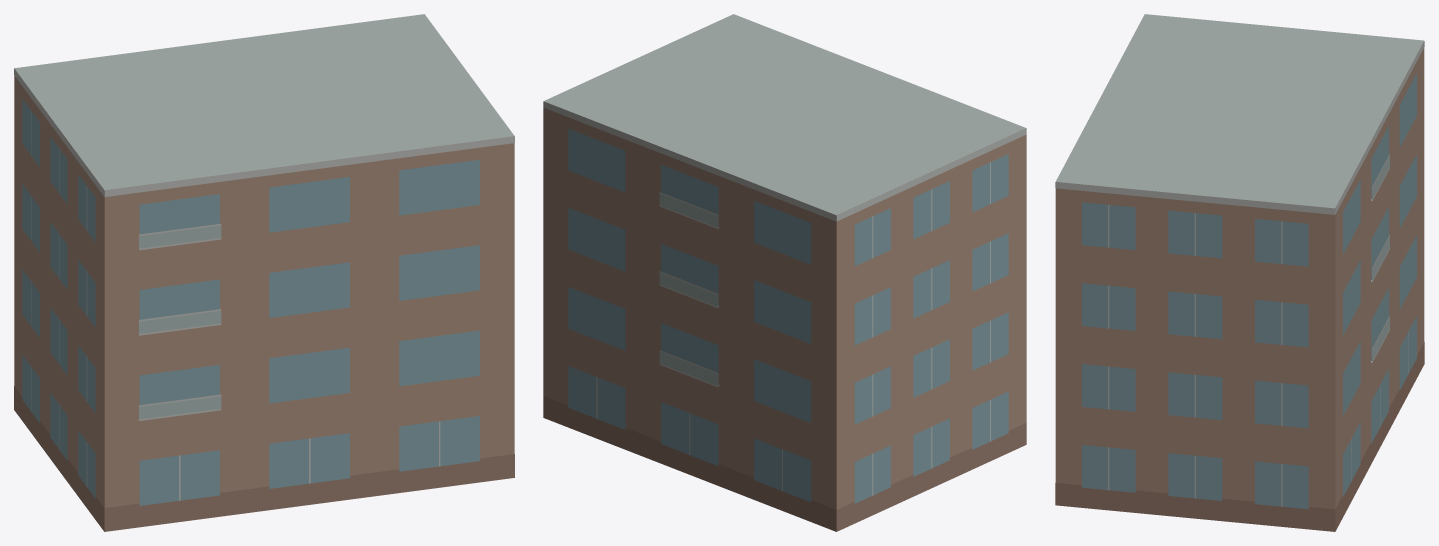
The model's file is residential-139b8e9a-058e-487a-b8a3-9d5505e96d96.glb.
3 views of the same model, side by side, from view 1: azimuth 30°, elevation 25°; view 2: azimuth 150°, elevation 25°; view 3: azimuth 270°, elevation 25° (orthographic). The views are drawn at different scales.
Visible parts, largest first — view 1: residential-139b8e9a-058e-487a-b8a3-9d5505e96d96.tmp; view 2: residential-139b8e9a-058e-487a-b8a3-9d5505e96d96.tmp; view 3: residential-139b8e9a-058e-487a-b8a3-9d5505e96d96.tmp.
Boxes of the visible parts, bbox=[...] form: residential-139b8e9a-058e-487a-b8a3-9d5505e96d96.tmp: bbox=[14, 14, 514, 531]; residential-139b8e9a-058e-487a-b8a3-9d5505e96d96.tmp: bbox=[543, 14, 1026, 531]; residential-139b8e9a-058e-487a-b8a3-9d5505e96d96.tmp: bbox=[1055, 14, 1424, 531].
Size of the model in its own units: 15.74 by 12.2 by 12.62.
